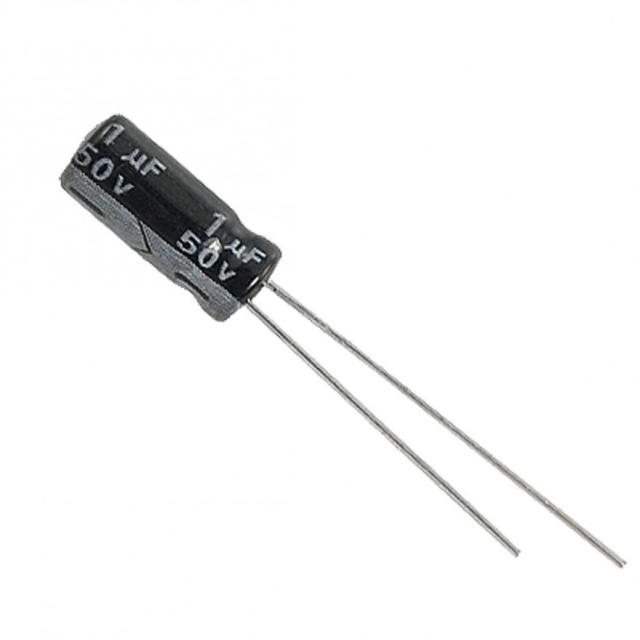Capacitor: (60, 115, 629, 570), (257, 313, 522, 560)
